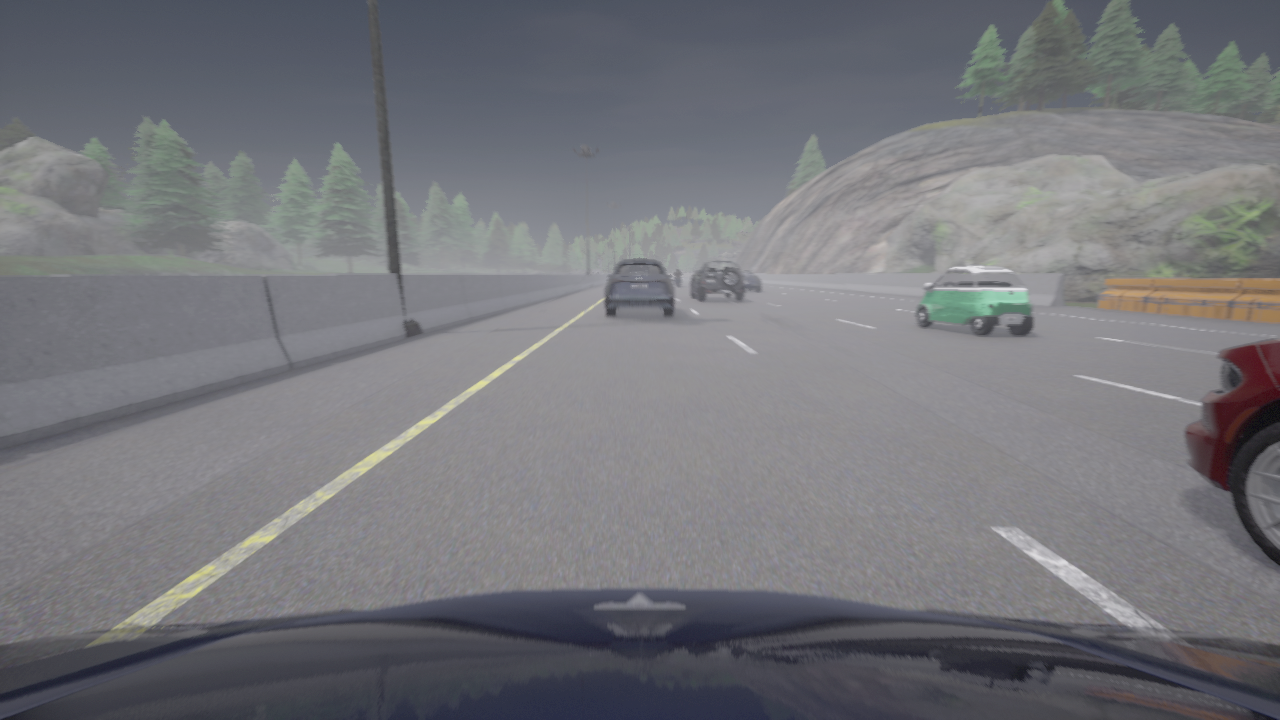cyclist: (0, 588, 1279, 719), (1185, 339, 1279, 566), (916, 266, 1033, 336), (605, 259, 674, 316), (691, 259, 745, 301), (741, 271, 761, 291), (676, 278, 681, 286)
